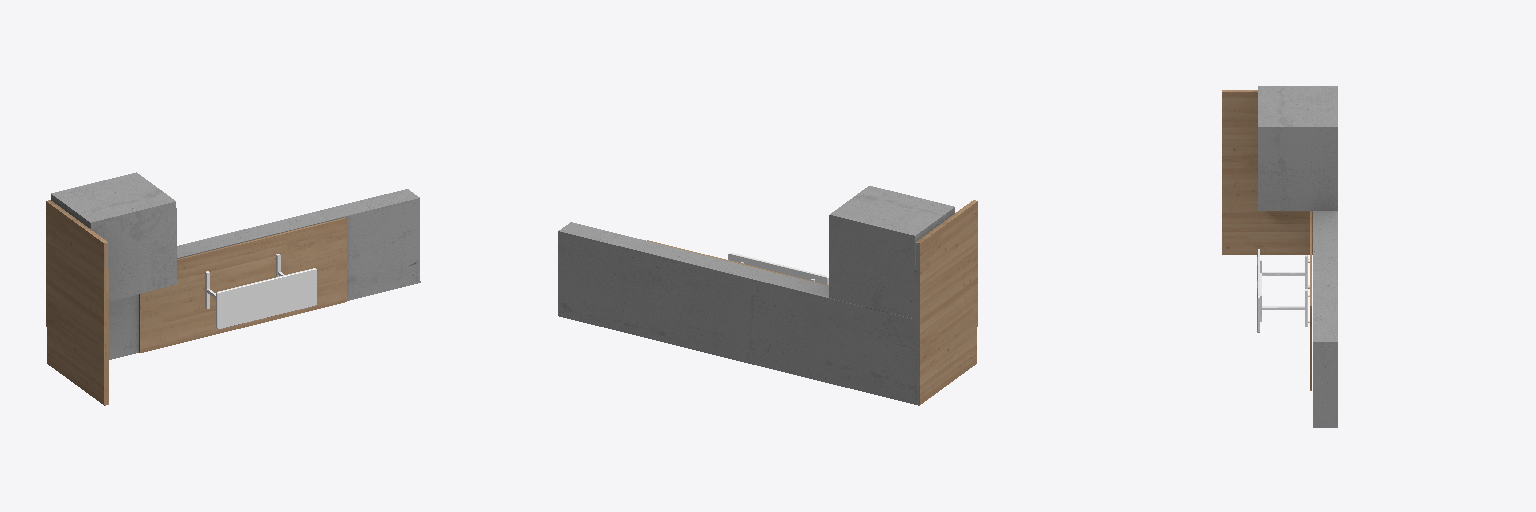
3 views of the same model, side by side, from view 1: azimuth 30°, elevation 25°; view 2: azimuth 150°, elevation 25°; view 3: azimuth 270°, elevation 25° (orthographic).
Parts seen in each view (by area): view 1: Object.3, Object.2, Object.5, Object.4, Object.1; view 2: Object.2, Object.4, Object.5, Object.1; view 3: Object.4, Object.5, Object.2, Object.1.
Boxes of the visible parts, <box> form: Object.3: <box>139,217,346,352</box>; Object.2: <box>109,189,420,359</box>; Object.5: <box>46,200,108,405</box>; Object.4: <box>51,172,176,301</box>; Object.1: <box>204,254,316,328</box>; Object.2: <box>558,222,914,404</box>; Object.4: <box>829,186,954,318</box>; Object.5: <box>915,200,977,405</box>; Object.1: <box>728,253,828,284</box>; Object.4: <box>1258,86,1337,210</box>; Object.5: <box>1222,90,1312,254</box>; Object.2: <box>1313,211,1337,427</box>; Object.1: <box>1257,249,1309,332</box>.
Size of the model in its own units: 720 by 321 by 199.
Materials: 2 (1 with a texture image).